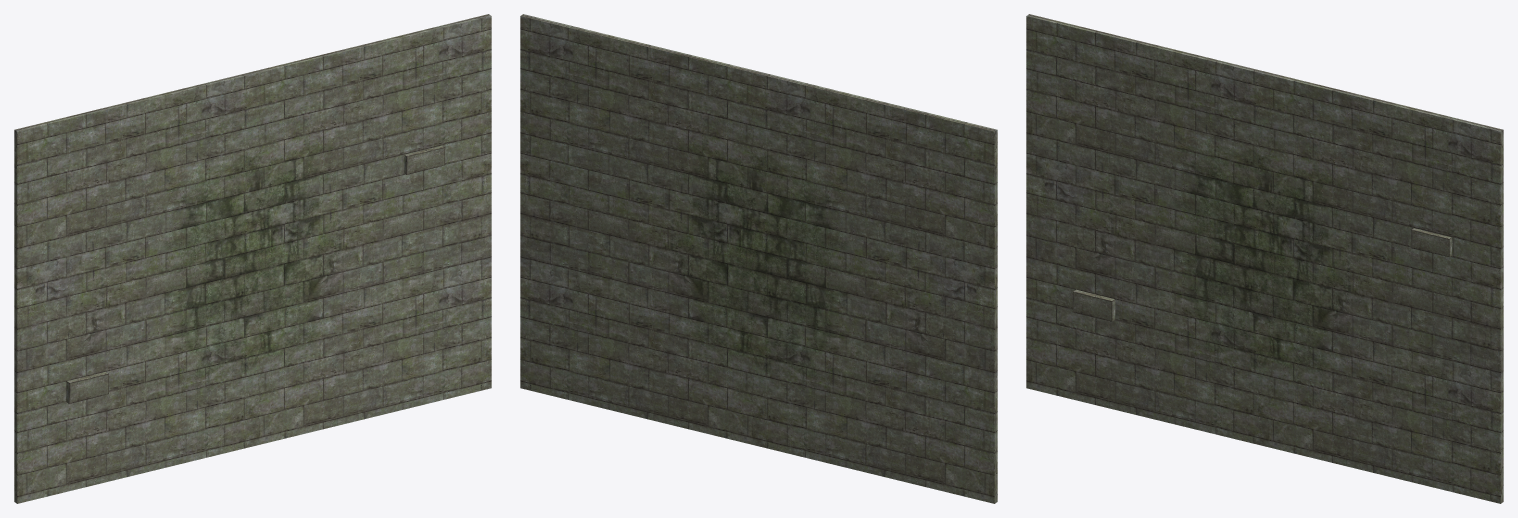
The model's file is wall1streak.fbx.
The picture shows the model from 3 angles, left to right: view 1: azimuth 30°, elevation 25°; view 2: azimuth 150°, elevation 25°; view 3: azimuth 330°, elevation 25°; orthographic projection.
Visible parts, largest first — view 1: Mesh Object; view 2: Mesh Object; view 3: Mesh Object.
Part boxes in pixels (bbox=[...]): Mesh Object: bbox=[14, 14, 491, 503]; Mesh Object: bbox=[520, 14, 997, 503]; Mesh Object: bbox=[1026, 14, 1503, 503].
Size of the model in its own units: 4 by 3 by 0.0843.
